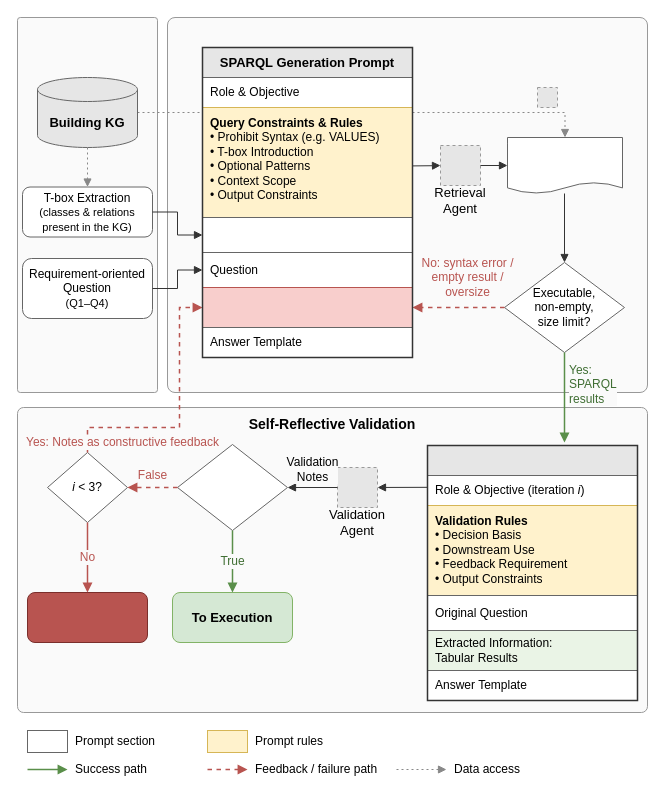
Image size: 665x798. Some labels were removed from this diagram. Grey dashed boxes stand in for pictures. The shapes that lost their labels are listed below. From the top down, each one's box as (x1, y1, x2, y2) in pixels, then its label:
(506, 136, 622, 194): SPARQL Query
(16, 16, 158, 392): Inputs
(166, 16, 648, 392): Information Retrieval
(202, 216, 412, 252): T-box View
(202, 286, 412, 328): Feedback from Last Attempt
(426, 444, 638, 476): Validation Prompt
(176, 444, 288, 530): Information sufficient?
(26, 592, 148, 642): Deployment Failed
